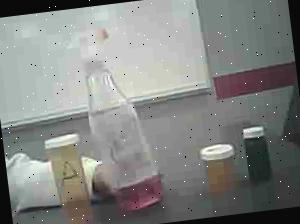Bottle A: (38, 127, 105, 224)
Bottle B: (194, 137, 244, 198)
Bottle C: (233, 120, 285, 189)
hazard: (71, 18, 184, 224)
